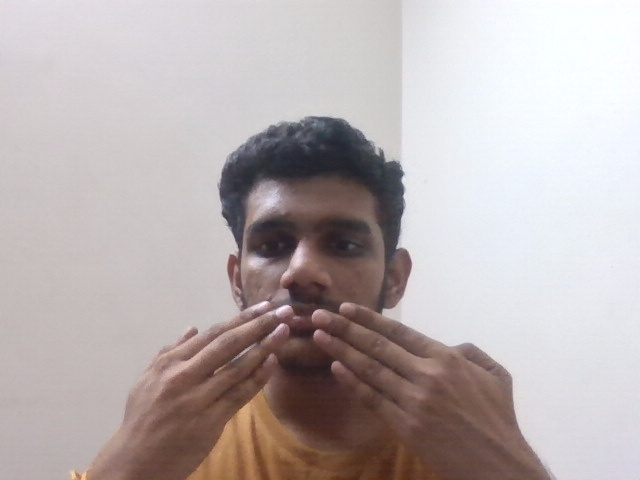thanks: (113, 300, 550, 472)
